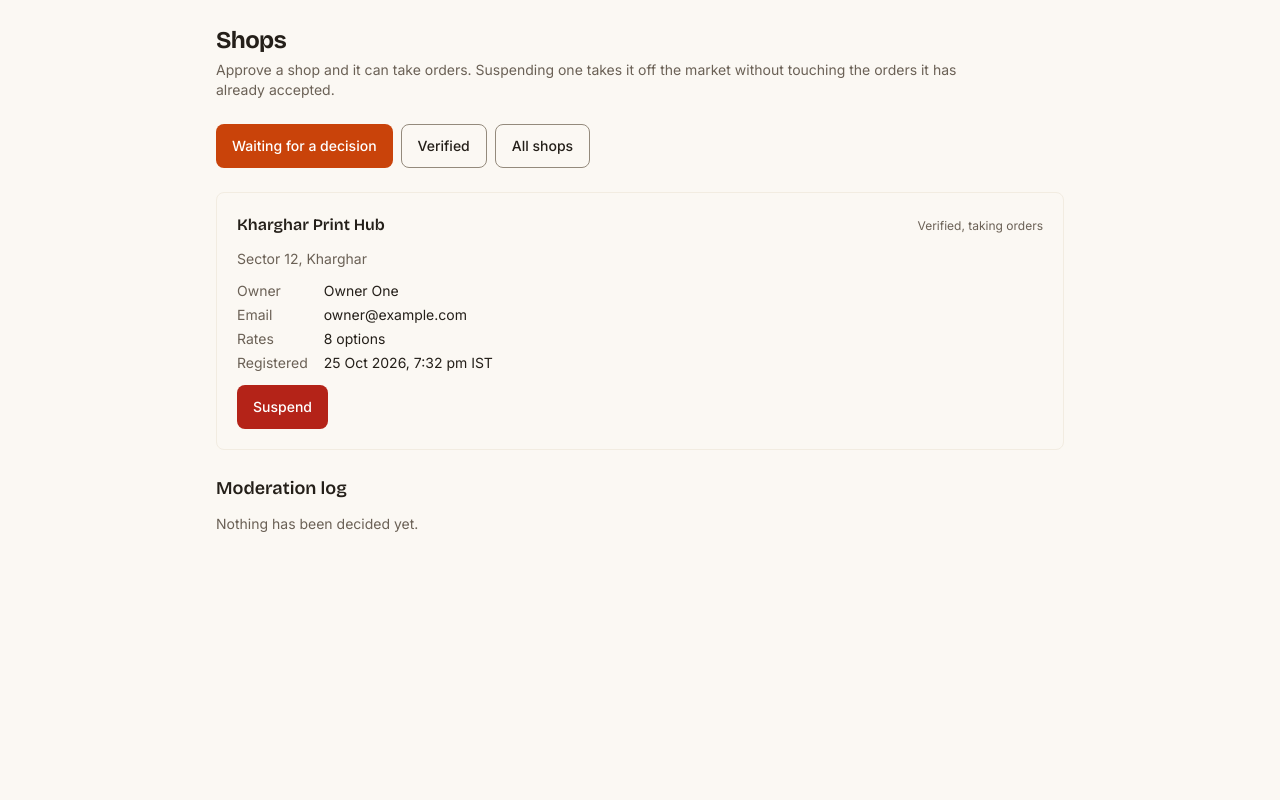
AdminShopsPage › will not suspend a shop without a reason
What coordinates should you click on to do the following:
click the button "Suspend"
I would click on:
 (282, 407)
Its box is [237, 385, 328, 429].
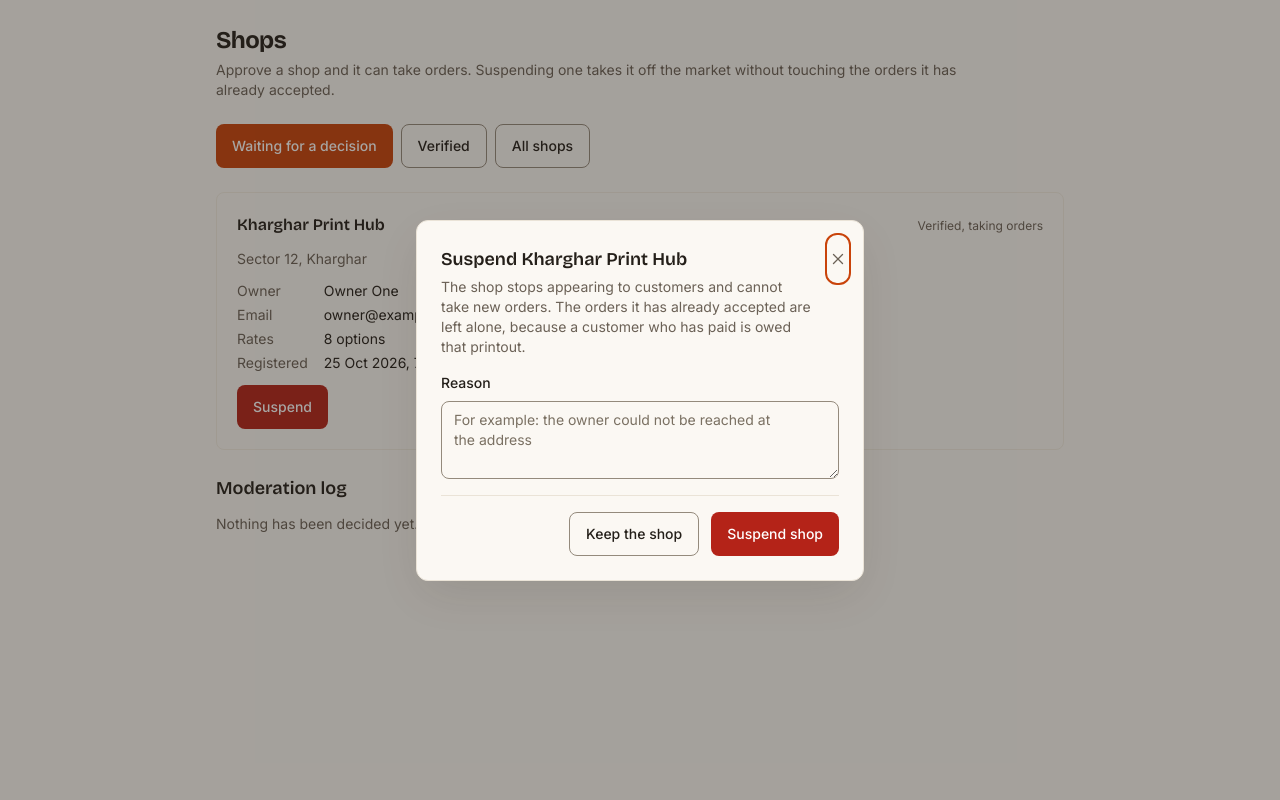
What coordinates should you click on to do the following:
click the button "Suspend shop"
I would click on:
 (775, 534)
Its box is [711, 512, 839, 556].
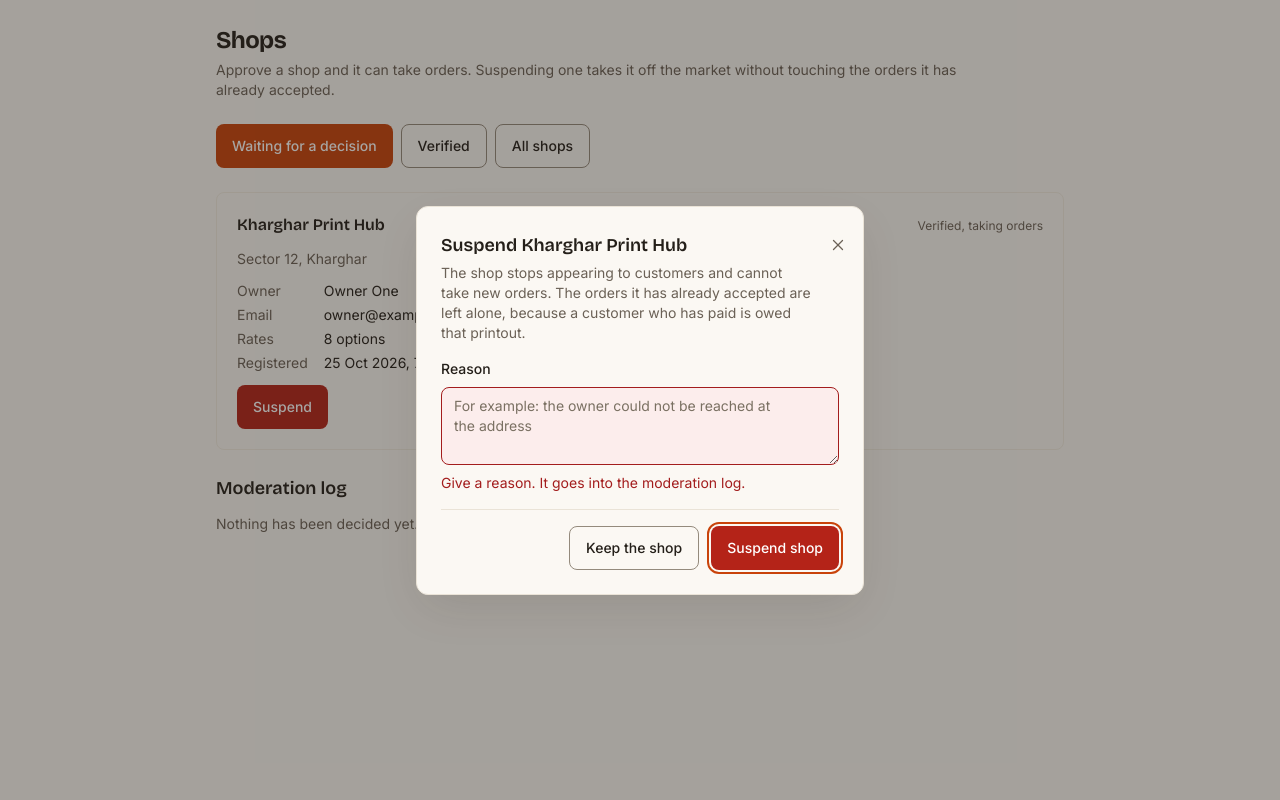
Expected: the text "Give a reason. It goes into the moderation log." is shown, [441, 474, 745, 490]
